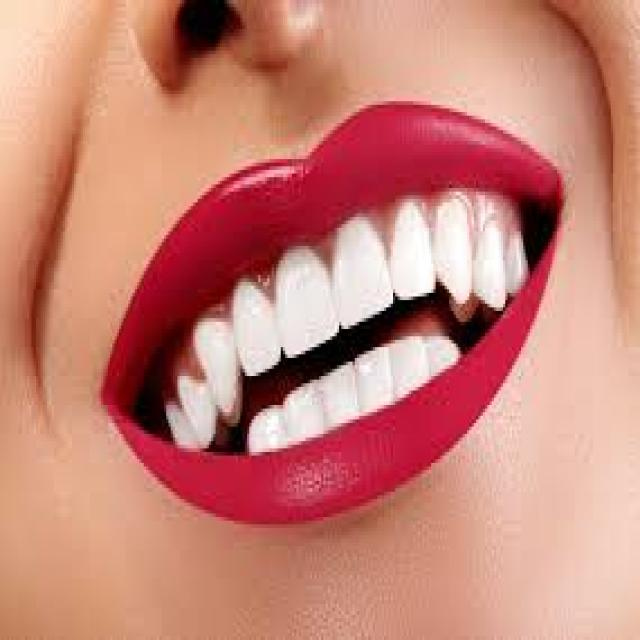tooth: (339, 228, 391, 311), (283, 264, 335, 340), (238, 293, 276, 369), (398, 210, 433, 289), (440, 210, 469, 304), (476, 220, 508, 304), (359, 351, 393, 401), (326, 369, 357, 419), (292, 387, 323, 434), (395, 340, 427, 383), (218, 322, 233, 398), (252, 412, 285, 445), (196, 383, 213, 441), (429, 336, 458, 365), (512, 238, 530, 278), (168, 416, 188, 441)
